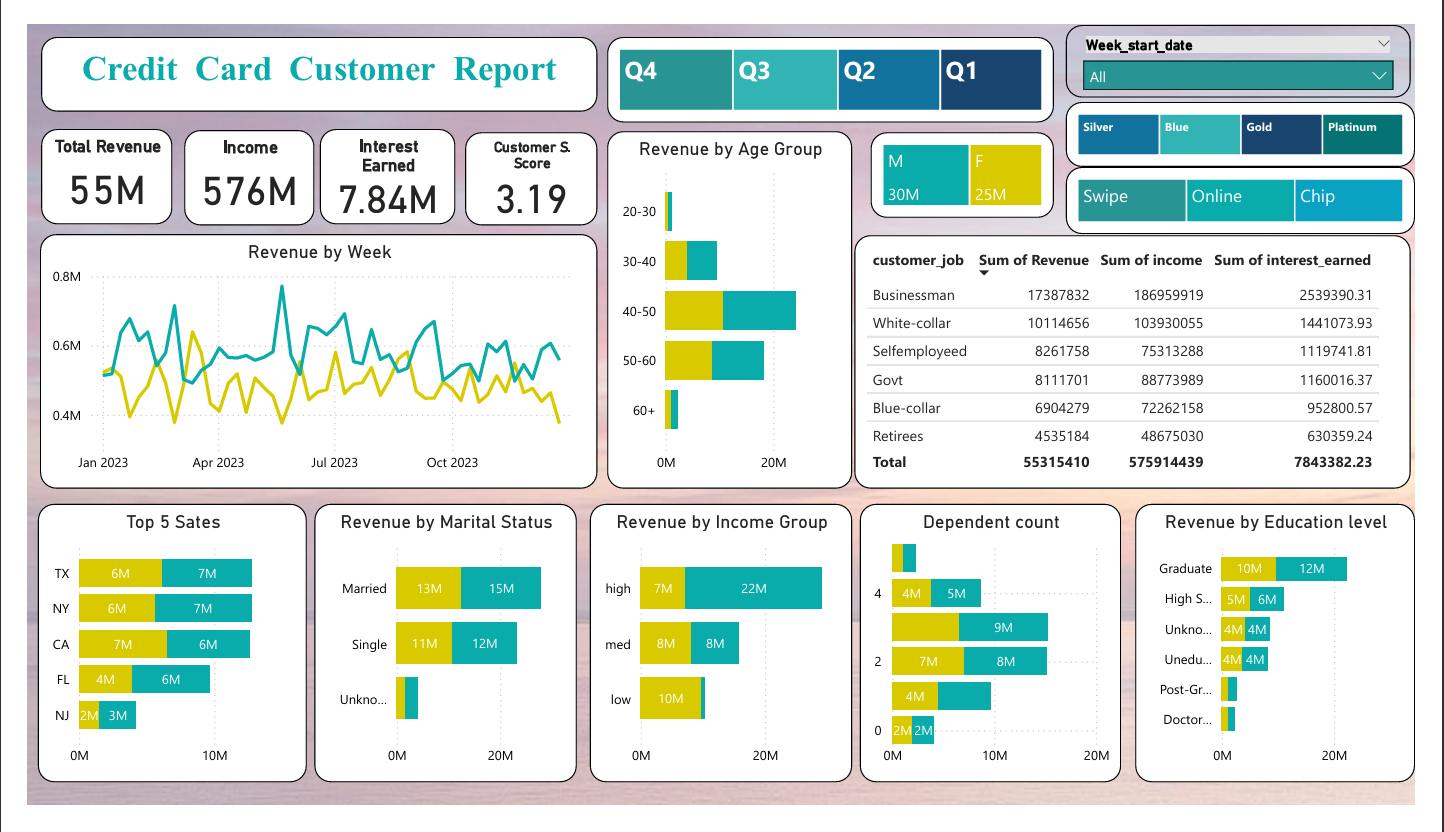

Layout of this report page (visuals, bound fields, positions):
{"tool":"powerbi","page":{"name":"CC Customer","canvas":[1280,720],"ordinal":2},"visuals":[{"type":"textbox","box":[13.5,11,512.9,68.7],"z":0},{"type":"barChart","title":"Revenue by Income Group","fields":{"Y":["Sum(public cc_detail.Revenue)"],"Category":["public cust_detail.Incomegroup"],"Series":["public cust_detail.gender"]},"box":[519,441.7,241.7,257.7],"z":1000},{"type":"tableEx","fields":{"Values":["public cust_detail.customer_job","Sum(public cc_detail.Revenue)","Sum(public cust_detail.income)","Sum(public cc_detail.interest_earned)"]},"box":[763.2,193.9,512.9,234.4],"z":2000},{"type":"card","title":"Total Revenue","fields":{"Values":["Sum(public cc_detail.Revenue)"]},"box":[13.5,95.7,120.2,88.3],"z":3000},{"type":"card","title":"Income","fields":{"Values":["Sum(public cust_detail.income)"]},"box":[144.8,96.9,120.2,88.3],"z":4000},{"type":"card","title":"Interest Earned","fields":{"Values":["Sum(public cc_detail.interest_earned)"]},"box":[269.9,95.7,125.2,88.3],"z":5000},{"type":"card","title":"Customer S. Score","fields":{"Values":["Avg(public cust_detail.cust_satisfaction_score)"]},"box":[403.7,99.4,122.7,85.9],"z":6000},{"type":"slicer","fields":{"Values":["public cc_detail.week_start_date"]},"box":[958.3,0,317.8,67.5],"z":7000},{"type":"treemap","fields":{"Group":["public cc_detail.qtr"],"Values":["Avg(public cust_detail.client_num)"]},"box":[535,11,412.3,78.5],"z":8000},{"type":"treemap","fields":{"Group":["public cc_detail.card_category"],"Values":["Avg(public cust_detail.client_num)"]},"box":[958.3,71.2,321.5,60.1],"z":9000},{"type":"lineChart","title":"Revenue by Week","fields":{"Y":["Sum(public cc_detail.Revenue)"],"Series":["public cust_detail.gender"],"Category":["public cc_detail.week_start_date.Variation.Date Hierarchy.Year","public cc_detail.week_start_date.Variation.Date Hierarchy.Month","public cc_detail.week_start_date.Variation.Date Hierarchy.Day"]},"box":[12.3,192.6,514.1,235.6],"z":10000},{"type":"treemap","fields":{"Group":["public cust_detail.gender"],"Values":["Sum(public cc_detail.Revenue)"]},"box":[777.9,99.4,169.3,78.5],"z":11000},{"type":"barChart","title":"Revenue by Age Group","fields":{"Y":["Sum(public cc_detail.Revenue)"],"Category":["public cust_detail.Age_group"],"Series":["public cust_detail.gender"]},"box":[535,98.2,225.8,330.1],"z":12000},{"type":"barChart","title":"Dependent count","fields":{"Y":["Sum(public cc_detail.Revenue)"],"Category":["public cust_detail.dependent_count"],"Series":["public cust_detail.gender"]},"box":[768.1,441.7,240.5,257.7],"z":13000},{"type":"barChart","title":"Revenue by Education level","fields":{"Y":["Sum(public cc_detail.Revenue)"],"Category":["public cust_detail.education_level"],"Series":["public cust_detail.gender"]},"box":[1022.1,441.7,257.7,257.7],"z":14000},{"type":"barChart","title":"Top 5 Sates","fields":{"Y":["Sum(public cc_detail.Revenue)"],"Category":["public cust_detail.state_cd","public cust_detail.education_level"],"Series":["public cust_detail.gender"]},"box":[9.8,441.7,247.9,257.7],"z":15000},{"type":"barChart","title":"Revenue by Marital Status","fields":{"Y":["Sum(public cc_detail.Revenue)"],"Category":["public cust_detail.marital_status"],"Series":["public cust_detail.gender"]},"box":[265,441.7,241.7,257.7],"z":16000},{"type":"treemap","fields":{"Group":["public cc_detail.use_chip"],"Values":["Avg(public cust_detail.client_num)"]},"box":[958.3,131.3,321.5,61.4],"z":17000}]}

Visuals, with their boxes in screenshot pixels (x1, y1, x2, y2), scaled from the page's 1280x720 canvas onto the 1444x832 screenshot:
textbox: [15, 13, 594, 92]
"Revenue by Income Group" barChart: [585, 510, 858, 808]
tableEx - public cust_detail.customer_job x Sum(public cc_detail.Revenue): [861, 224, 1440, 495]
"Total Revenue" card: [15, 111, 151, 213]
"Income" card: [163, 112, 299, 214]
"Interest Earned" card: [304, 111, 446, 213]
"Customer S. Score" card: [455, 115, 594, 214]
slicer - public cc_detail.week_start_date: [1081, 0, 1440, 78]
treemap - public cc_detail.qtr x Avg(public cust_detail.client_num): [604, 13, 1069, 103]
treemap - public cc_detail.card_category x Avg(public cust_detail.client_num): [1081, 82, 1443, 152]
"Revenue by Week" lineChart: [14, 223, 594, 495]
treemap - public cust_detail.gender x Sum(public cc_detail.Revenue): [878, 115, 1069, 206]
"Revenue by Age Group" barChart: [604, 113, 858, 495]
"Dependent count" barChart: [867, 510, 1138, 808]
"Revenue by Education level" barChart: [1153, 510, 1443, 808]
"Top 5 Sates" barChart: [11, 510, 291, 808]
"Revenue by Marital Status" barChart: [299, 510, 572, 808]
treemap - public cc_detail.use_chip x Avg(public cust_detail.client_num): [1081, 152, 1443, 223]
